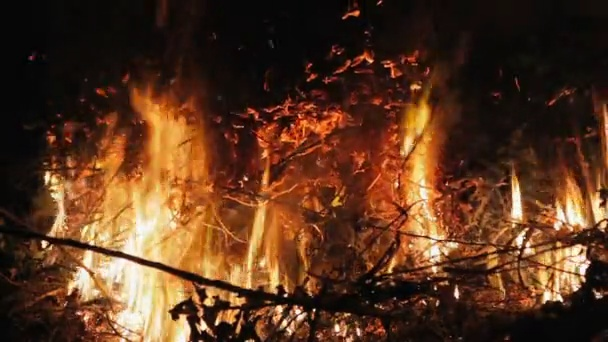fire: (45, 96, 278, 342), (509, 167, 608, 301), (395, 101, 448, 270)
